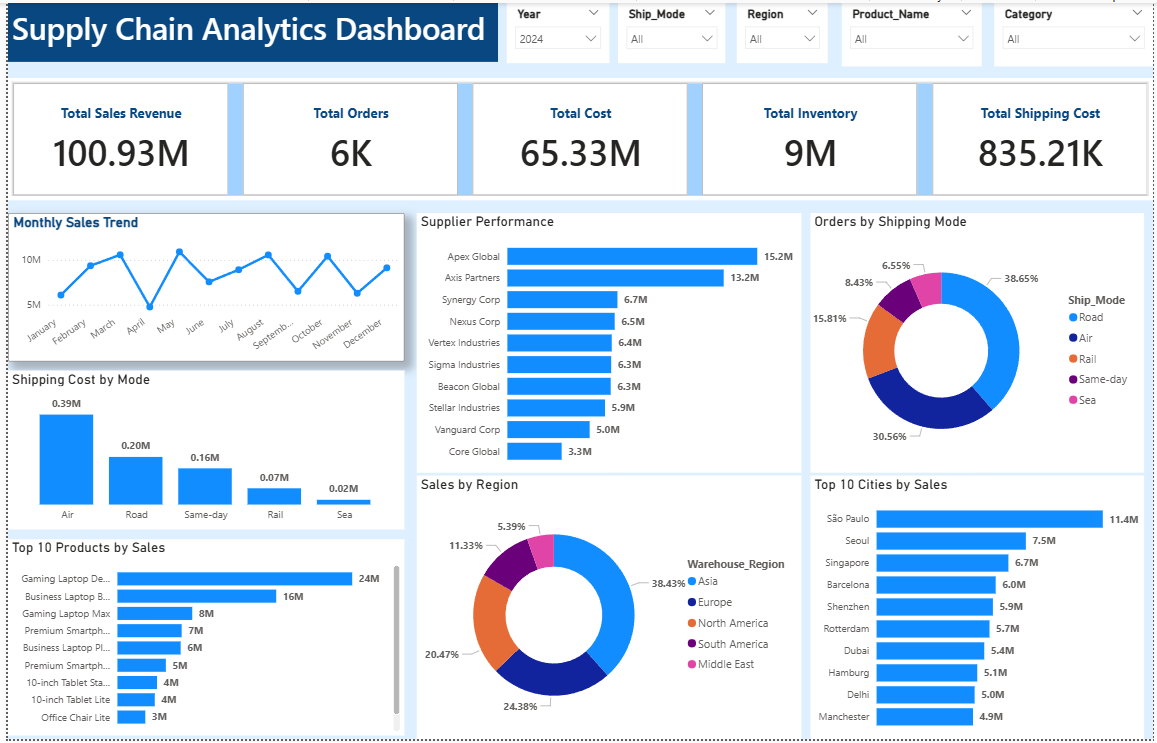

This screenshot's page, from the dashboard's own definition file:
{"tool":"powerbi","page":{"name":"Page 1","canvas":[1400,900],"ordinal":0},"visuals":[{"type":"textbox","box":[0,0,599.2,71.8],"z":0},{"type":"slicer","fields":{"Values":["Calendar.Year"]},"box":[609.9,0,125.3,73.4],"z":1000},{"type":"slicer","fields":{"Values":["Dim_Warehouse.Warehouse_Region"]},"box":[891.1,0,111.6,73.4],"z":2000},{"type":"slicer","fields":{"Values":["Dim_Product.Product_Name"]},"box":[1019.5,0,171.2,78],"z":3000},{"type":"slicer","fields":{"Values":["Dim_Product.Category"]},"box":[1206,0,194.1,78],"z":4000},{"type":"slicer","fields":{"Values":["Fact_Orders.Ship_Mode"]},"box":[745.9,0,131.5,73.4],"z":5000},{"type":"cardVisual","fields":{"Data":["Fact_Orders.Total Sales Revenue","Fact_Orders.Total Orders","Fact_Orders.Total Cost","Fact_Inventory.Total Inventory","Fact_Orders.Total Shipping Cost"]},"box":[0,91.7,1400.1,149.8],"z":6000},{"type":"lineChart","title":"Monthly Sales Trend","fields":{"Category":["Calendar.Month"],"Y":["Fact_Orders.Total Sales Revenue"]},"box":[0,256.8,484.5,181.9],"z":7000},{"type":"donutChart","title":"Orders by Shipping Mode","fields":{"Category":["Fact_Orders.Ship_Mode"],"Y":["CountNonNull(Fact_Orders.Order_ID)"]},"box":[981.3,256.8,408.1,317.9],"z":8000},{"type":"clusteredBarChart","title":"Top 10 Products by Sales","fields":{"Category":["Dim_Product.Product_Name"],"Y":["Sum(Fact_Orders.Total_Sales)"]},"box":[0,655.7,484.5,240],"z":9000},{"type":"donutChart","title":"Sales by Region","fields":{"Category":["Dim_Warehouse.Warehouse_Region"],"Y":["Fact_Orders.Total Sales Revenue"]},"box":[499.8,577.8,470.8,322.5],"z":10000},{"type":"clusteredBarChart","title":"Supplier Performance","fields":{"Category":["Dim_Supplier.Supplier_Name"],"Y":["Fact_Orders.Total Sales Revenue"]},"box":[499.8,256.8,470.8,317.9],"z":12000},{"type":"clusteredColumnChart","title":"Shipping Cost by Mode","fields":{"Category":["Fact_Orders.Ship_Mode"],"Y":["Fact_Orders.Total Shipping Cost"]},"box":[0,449.4,484.5,194.1],"z":13000},{"type":"clusteredBarChart","title":"Top 10 Cities by Sales","fields":{"Category":["Dim_Warehouse.Warehouse_City"],"Y":["Fact_Orders.Total Sales Revenue"]},"box":[981,578,408,322],"z":13001}]}

Visuals, with their boxes in screenshot pixels (x1, y1, x2, y2), scaled from the page's 1400x900 canvas onto the 1157x743 screenshot:
textbox: crop(0, 0, 495, 59)
slicer - Calendar.Year: crop(504, 0, 608, 61)
slicer - Dim_Warehouse.Warehouse_Region: crop(736, 0, 829, 61)
slicer - Dim_Product.Product_Name: crop(843, 0, 984, 64)
slicer - Dim_Product.Category: crop(997, 0, 1156, 64)
slicer - Fact_Orders.Ship_Mode: crop(616, 0, 725, 61)
cardVisual - Fact_Orders.Total Sales Revenue x Fact_Orders.Total Orders: crop(0, 76, 1156, 199)
"Monthly Sales Trend" lineChart: crop(0, 212, 400, 362)
"Orders by Shipping Mode" donutChart: crop(811, 212, 1148, 474)
"Top 10 Products by Sales" clusteredBarChart: crop(0, 541, 400, 739)
"Sales by Region" donutChart: crop(413, 477, 802, 742)
"Supplier Performance" clusteredBarChart: crop(413, 212, 802, 474)
"Shipping Cost by Mode" clusteredColumnChart: crop(0, 371, 400, 531)
"Top 10 Cities by Sales" clusteredBarChart: crop(811, 477, 1148, 742)
